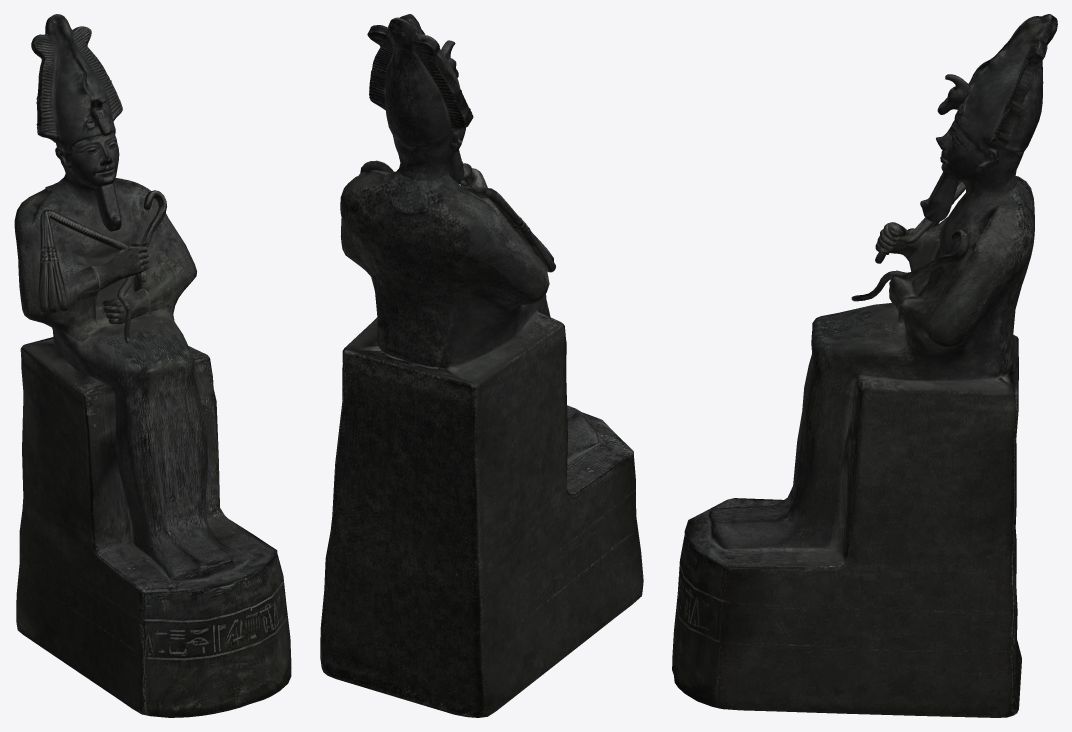
File: osiris.glb
The picture shows the model from 3 angles, left to right: view 1: azimuth 30°, elevation 25°; view 2: azimuth 150°, elevation 25°; view 3: azimuth 270°, elevation 25°; orthographic projection. The views are drawn at different scales.
Parts seen in each view (by area): view 1: Osiris; view 2: Osiris; view 3: Osiris.
Part boxes in pixels (x1=…): Osiris: x1=14, y1=14, x2=291, y2=717; Osiris: x1=320, y1=14, x2=643, y2=717; Osiris: x1=672, y1=14, x2=1057, y2=717.
Bounding box in the file's own units: 2.38 × 7.95 × 4.2.
1 material, 1 textured.
